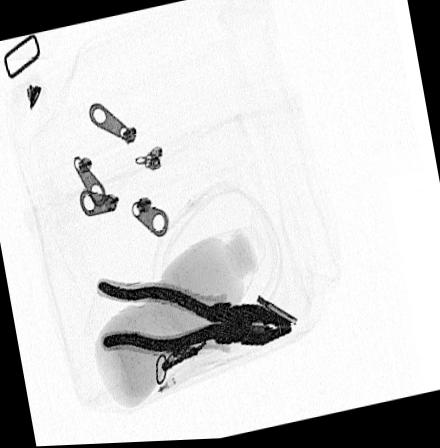Pliers: (96, 276, 295, 360)
